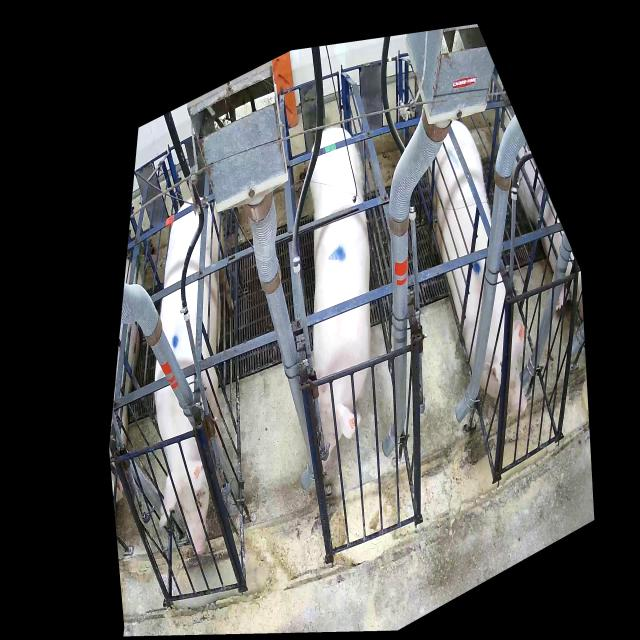pig: (428, 120, 527, 418), (155, 198, 236, 555), (310, 128, 371, 473)
